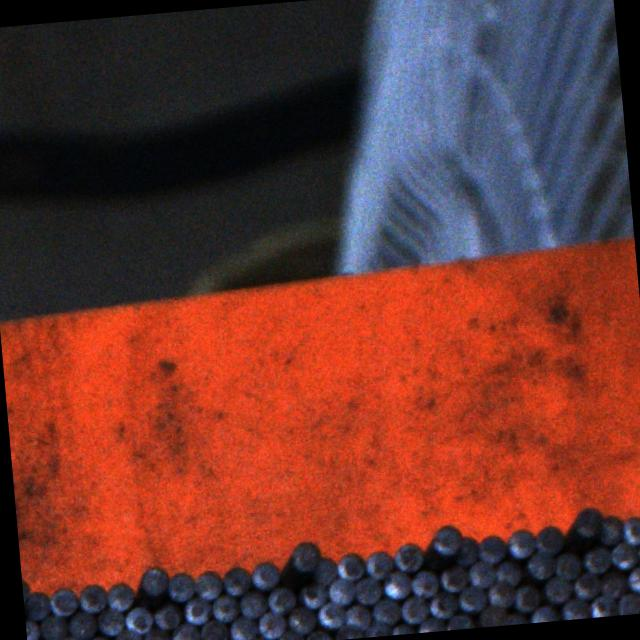tool: (430, 523, 463, 556), (289, 540, 320, 572), (533, 524, 564, 556), (192, 568, 222, 601), (362, 549, 393, 580), (48, 585, 78, 617), (78, 582, 108, 614), (139, 564, 169, 596), (165, 570, 195, 602), (594, 514, 624, 546), (428, 590, 460, 620), (392, 542, 423, 572), (476, 533, 506, 564), (505, 528, 535, 559), (572, 506, 602, 537), (66, 609, 96, 640), (249, 560, 279, 590), (182, 596, 212, 626), (382, 570, 412, 600), (608, 540, 638, 570), (105, 580, 134, 611), (222, 564, 250, 596), (96, 606, 125, 636), (123, 605, 153, 634), (209, 593, 239, 622), (266, 585, 296, 614), (326, 576, 356, 605), (257, 610, 286, 640), (598, 570, 629, 598), (24, 589, 51, 621), (409, 569, 438, 598), (334, 552, 364, 580), (466, 560, 496, 588), (554, 550, 582, 580), (286, 606, 316, 634), (371, 597, 401, 625), (399, 596, 429, 624), (451, 535, 478, 566), (151, 602, 180, 630), (238, 590, 267, 618), (526, 550, 555, 578), (543, 575, 572, 603), (311, 556, 338, 586), (354, 576, 382, 604), (440, 564, 468, 592), (583, 546, 611, 574), (343, 603, 371, 631), (486, 580, 514, 608), (316, 601, 345, 628), (457, 585, 486, 612), (494, 558, 521, 586), (38, 614, 67, 640), (298, 583, 326, 609), (513, 583, 539, 611), (572, 572, 600, 598), (228, 615, 256, 640), (589, 594, 617, 618), (478, 604, 507, 627), (619, 515, 640, 546), (561, 597, 589, 620), (198, 618, 227, 640), (616, 591, 640, 615), (169, 621, 198, 640), (530, 604, 558, 622), (333, 623, 362, 640), (445, 613, 473, 630), (417, 616, 445, 632), (364, 621, 390, 637), (112, 627, 141, 640), (142, 627, 170, 640), (627, 565, 640, 593), (303, 628, 331, 640), (25, 618, 40, 640), (275, 629, 304, 640)
